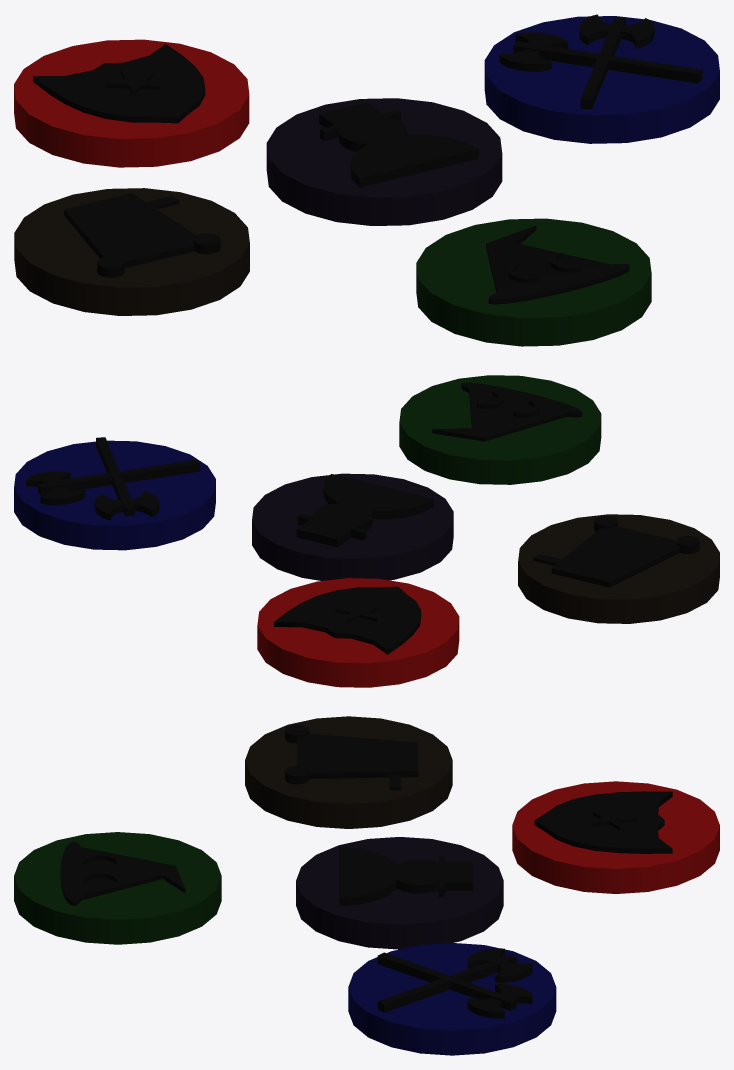
The model's file is PrintFlat2.obj.
3 views of the same model, one above another, from view 1: azimuth 30°, elevation 25°; view 2: azimuth 150°, elevation 25°; view 3: azimuth 270°, elevation 25° (orthographic). The views are drawn at different scales.
Visible parts, largest first — view 1: WizardGroup DipToken3, WarriorBack WarriorGroup, DipGroup DipToken, SeigeToken SeigeGroup, ClericGroup ClericBack, pCylinder11 ClericGroup, SeigeGroup SeigeIcon, DiplomatIcon DipGroup, WarriorGroup WarriorIcon, WizardIcon WizardGroup; view 2: WizardGroup DipToken3, WarriorBack WarriorGroup, SeigeToken SeigeGroup, DipGroup DipToken, ClericGroup ClericBack, pCylinder11 ClericGroup, SeigeGroup SeigeIcon, DiplomatIcon DipGroup, WarriorGroup WarriorIcon, WizardIcon WizardGroup; view 3: WizardGroup DipToken3, WarriorBack WarriorGroup, DipGroup DipToken, SeigeToken SeigeGroup, ClericGroup ClericBack, pCylinder11 ClericGroup, SeigeGroup SeigeIcon, WarriorGroup WarriorIcon, DiplomatIcon DipGroup, WizardIcon WizardGroup.
Boxes of the visible parts, <box> form: WizardGroup DipToken3: <box>416,218,651,346</box>; WarriorBack WarriorGroup: <box>484,16,719,143</box>; DipGroup DipToken: <box>266,98,502,225</box>; SeigeToken SeigeGroup: <box>14,188,249,315</box>; ClericGroup ClericBack: <box>14,39,249,167</box>; pCylinder11 ClericGroup: <box>33,44,205,123</box>; SeigeGroup SeigeIcon: <box>64,193,220,277</box>; DiplomatIcon DipGroup: <box>319,102,478,187</box>; WarriorGroup WarriorIcon: <box>499,14,702,109</box>; WizardIcon WizardGroup: <box>486,225,629,304</box>; WizardGroup DipToken3: <box>399,375,601,484</box>; WarriorBack WarriorGroup: <box>14,440,215,550</box>; SeigeToken SeigeGroup: <box>518,514,719,623</box>; DipGroup DipToken: <box>252,473,453,580</box>; ClericGroup ClericBack: <box>257,578,459,687</box>; pCylinder11 ClericGroup: <box>274,586,421,654</box>; SeigeGroup SeigeIcon: <box>533,516,699,587</box>; DiplomatIcon DipGroup: <box>296,474,433,547</box>; WarriorGroup WarriorIcon: <box>26,437,200,520</box>; WizardIcon WizardGroup: <box>432,382,582,441</box>; WizardGroup DipToken3: <box>14,832,221,944</box>; WarriorBack WarriorGroup: <box>348,943,556,1055</box>; DipGroup DipToken: <box>296,837,503,949</box>; SeigeToken SeigeGroup: <box>245,716,452,828</box>; ClericGroup ClericBack: <box>512,781,719,893</box>; pCylinder11 ClericGroup: <box>534,791,672,853</box>; SeigeGroup SeigeIcon: <box>285,725,418,790</box>; WarriorGroup WarriorIcon: <box>377,948,532,1018</box>; DiplomatIcon DipGroup: <box>339,846,472,906</box>; WizardIcon WizardGroup: <box>60,841,185,905</box>.
Size of the model in its own units: 6.14 by 0.3037 by 5.83.
